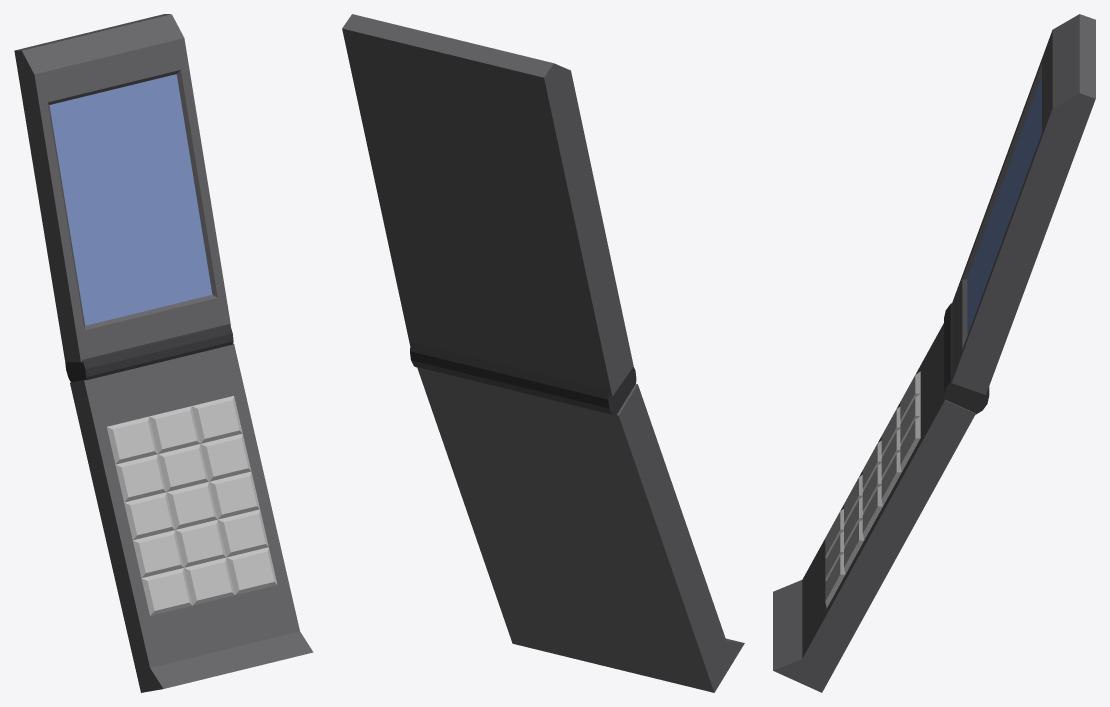
File: contraband_phone.fbx
The picture shows the model from 3 angles, left to right: view 1: azimuth 30°, elevation 25°; view 2: azimuth 150°, elevation 25°; view 3: azimuth 270°, elevation 25°; orthographic projection. The views are drawn at different scales.
Parts seen in each view (by area): view 1: Phoine; view 2: Phoine; view 3: Phoine.
Part boxes in pixels (x1,y1,x2,y2): Phoine: (14, 14, 313, 692); Phoine: (342, 14, 744, 692); Phoine: (773, 14, 1095, 692).
Bounding box in the file's own units: 162 × 572 × 279.
